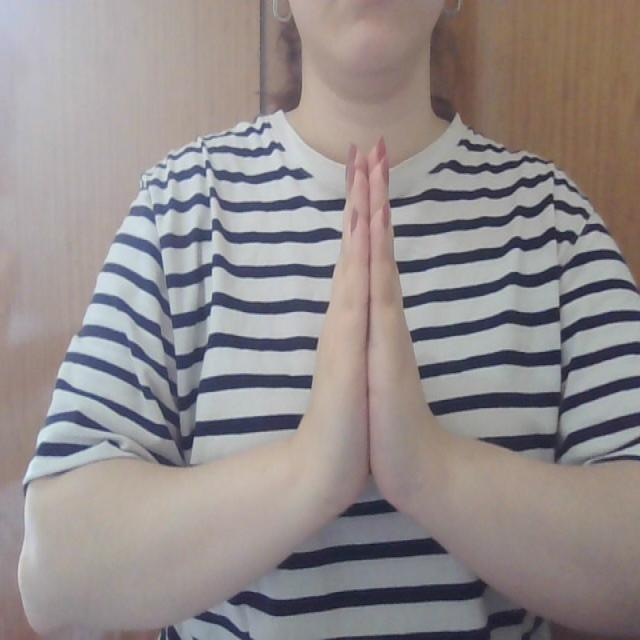Ozur-Dilemek: (288, 132, 453, 554)
